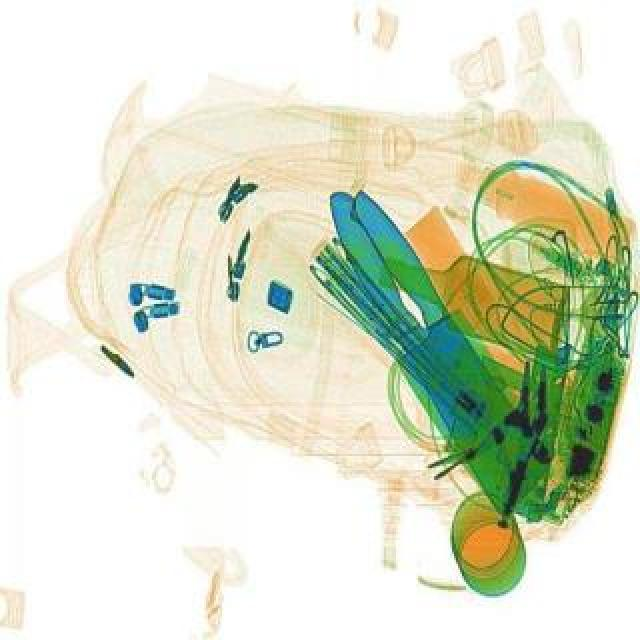knife: (308, 166, 570, 516), (304, 184, 572, 516)
